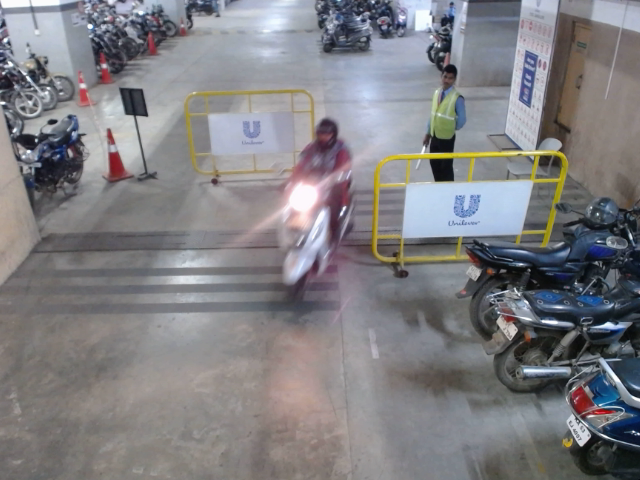with_helmet: (313, 118, 339, 150)
